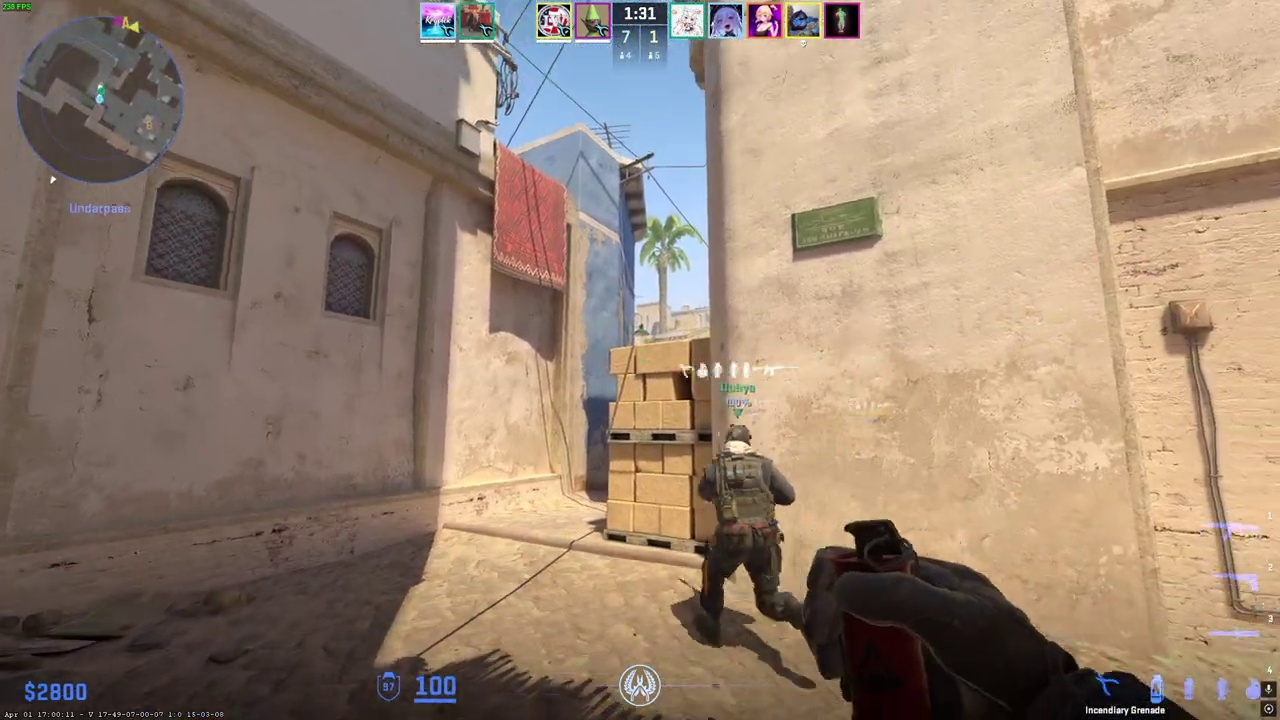CT: (693, 424, 802, 648)
